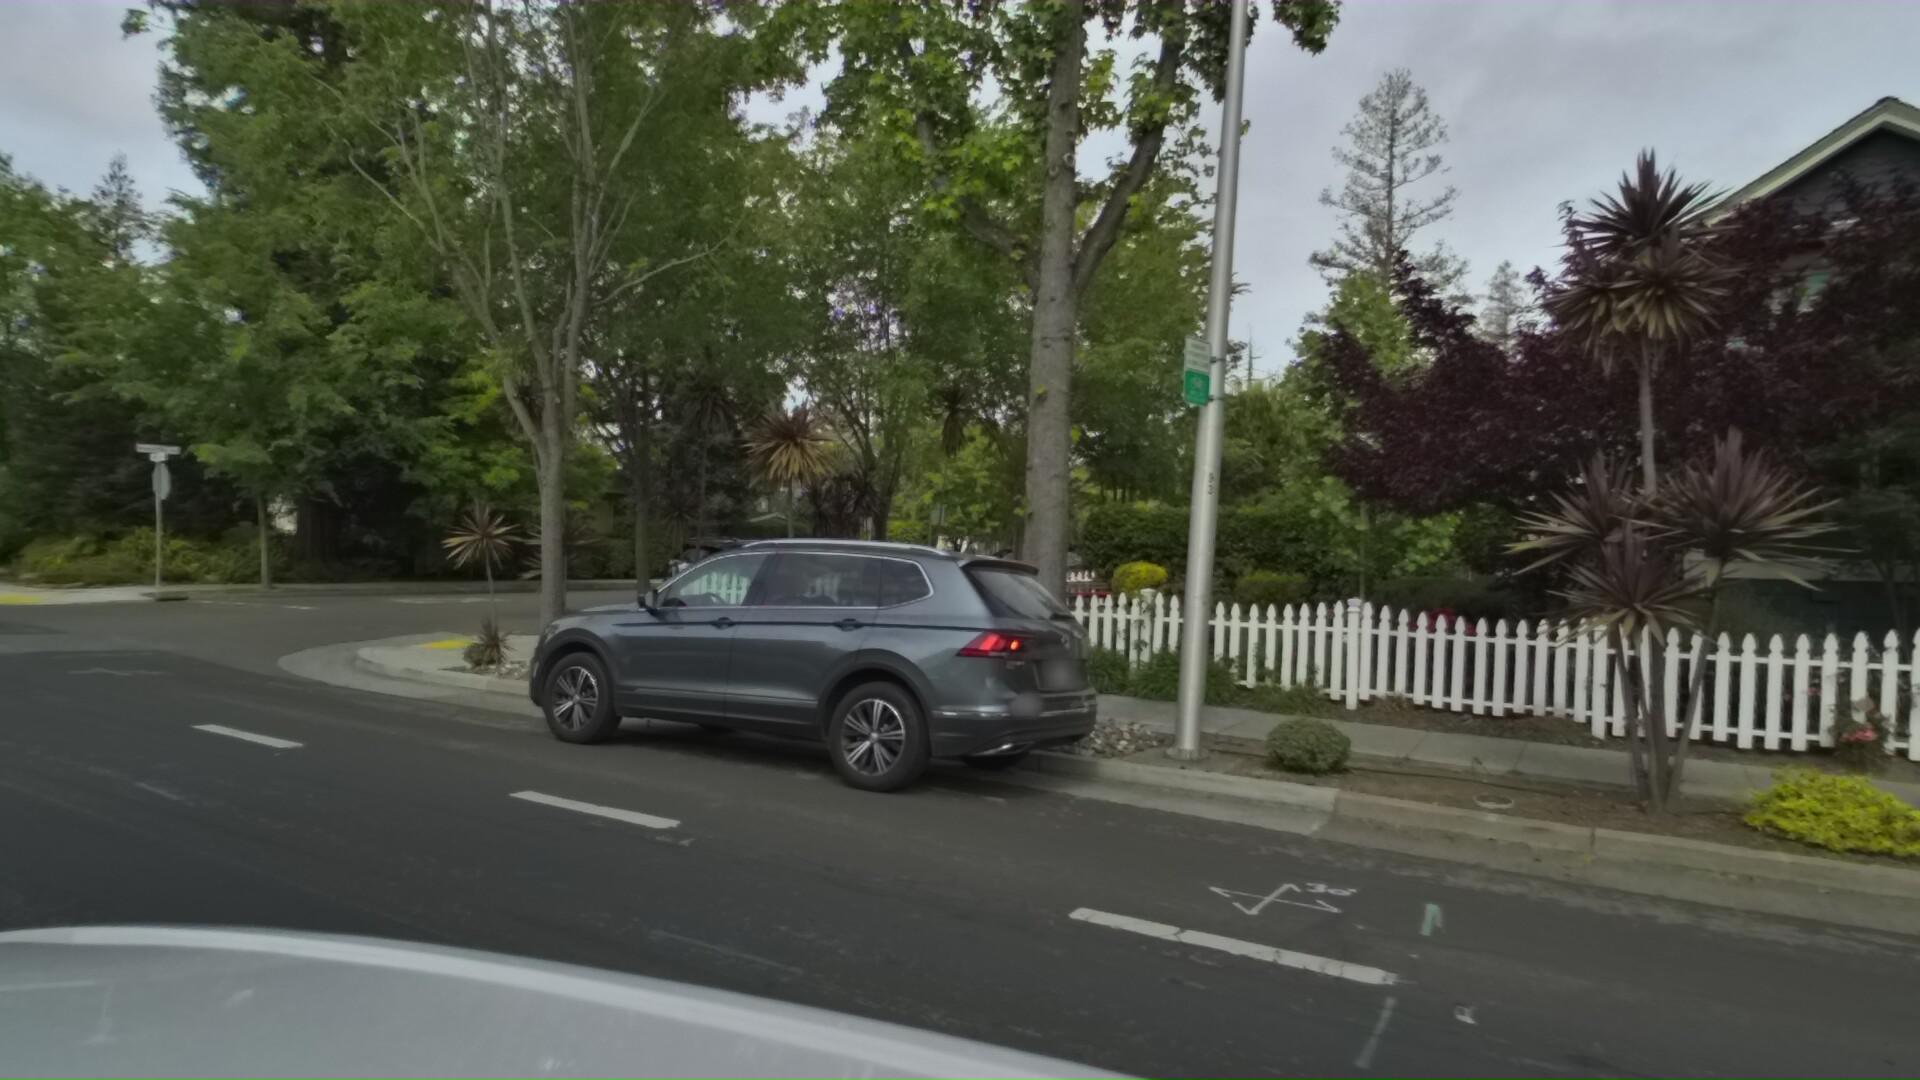car: (447, 526, 1083, 822), (622, 527, 827, 622), (967, 547, 1048, 585), (1022, 545, 1091, 580)
